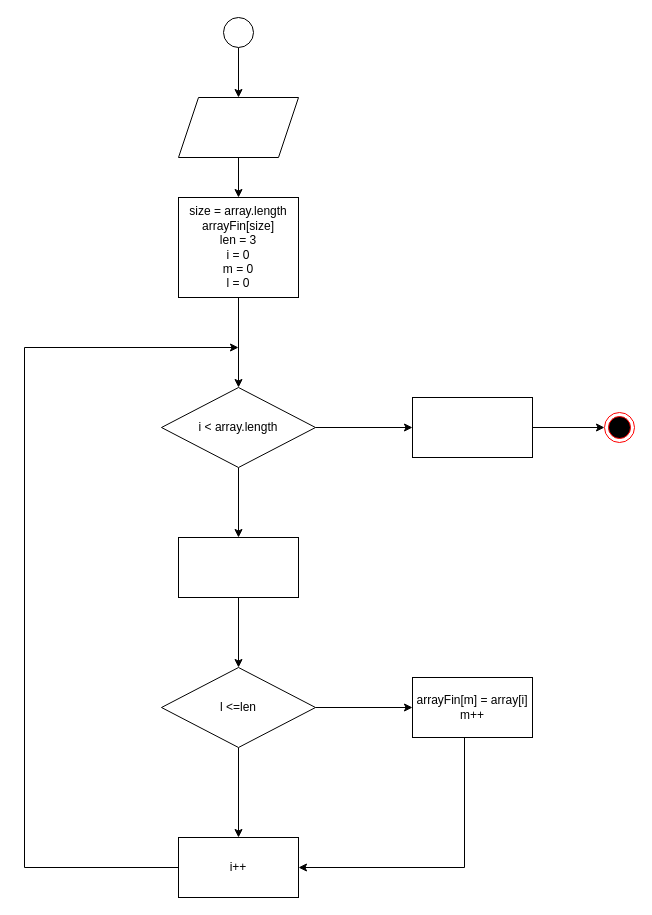
Image size: 652x915. Some labels were removed from this diagram. Each missing label, with the centre of its shape:
"array[]" belongs at (x=238, y=127).
"l = array[i].length" belongs at (x=238, y=567).
"print(arrayFin)" belongs at (x=472, y=427).
